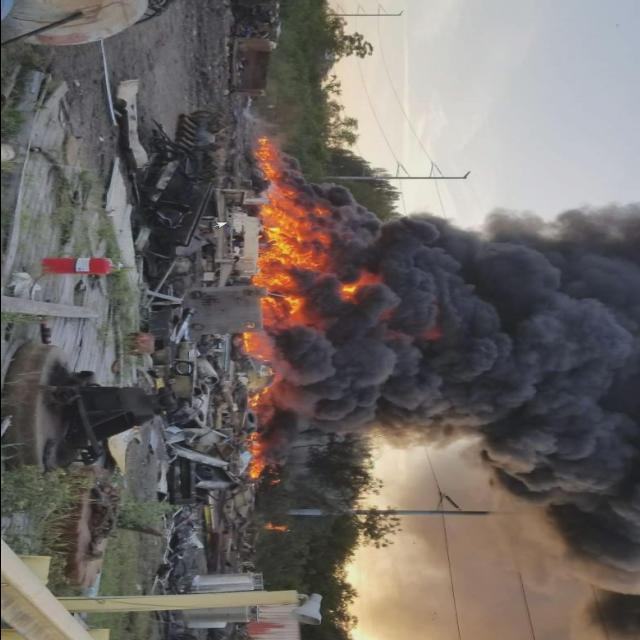Fire: (232, 124, 341, 500), (330, 267, 386, 313), (264, 521, 284, 532)
